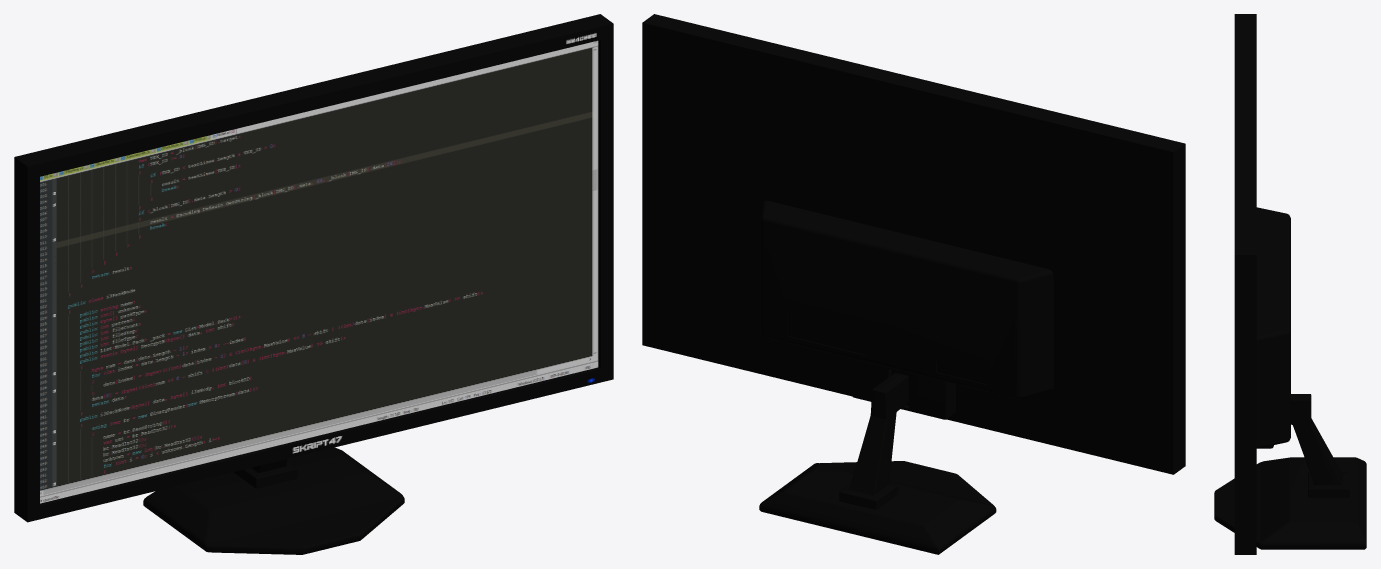
The model's file is computer_monitor_169_low_poly_game_ready.glb.
3 views of the same model, side by side, from view 1: azimuth 30°, elevation 25°; view 2: azimuth 150°, elevation 25°; view 3: azimuth 270°, elevation 25° (orthographic). The views are drawn at different scales.
Visible parts, largest first — view 1: Object_3, Object_2; view 2: Object_2; view 3: Object_2.
Part boxes in pixels (x1,y1,x2,y2): Object_3: (40, 40, 598, 503); Object_2: (14, 14, 613, 554); Object_2: (642, 14, 1185, 554); Object_2: (1214, 14, 1366, 554).
Size of the model in its own units: 0.8087 by 0.5868 by 0.2159.
2 materials, 2 textured.
